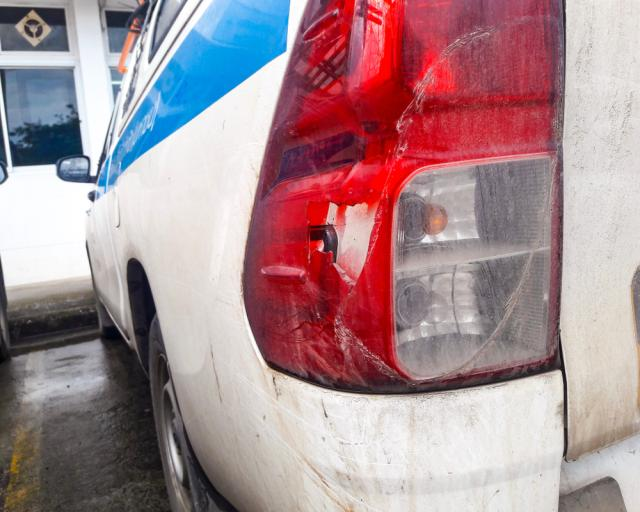lamp broken: (243, 0, 566, 394)
